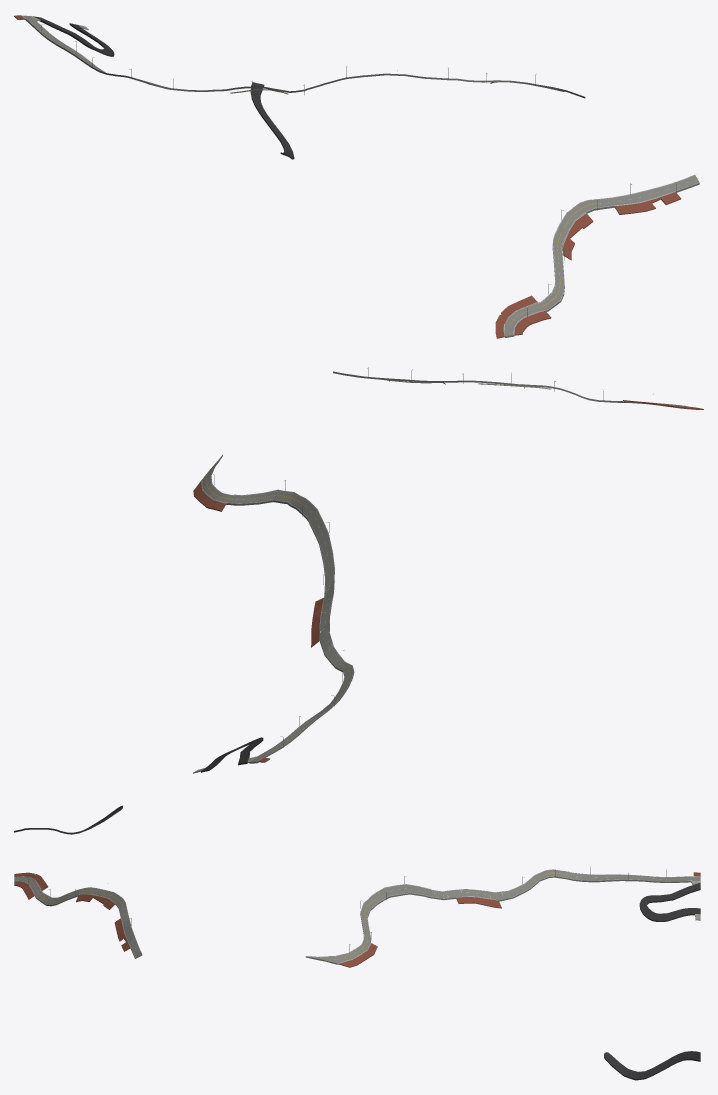
The model's file is 16-54728-29750.6cbbe46b.glb.
3 views of the same model, one above another, from view 1: azimuth 30°, elevation 25°; view 2: azimuth 150°, elevation 25°; view 3: azimuth 270°, elevation 25° (orthographic). The views are drawn at different scales.
Size of the model in its own units: 228 by 159 by 586.
